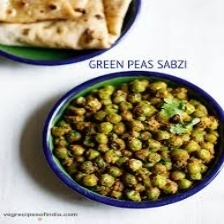sabzi: (46, 67, 224, 207)
